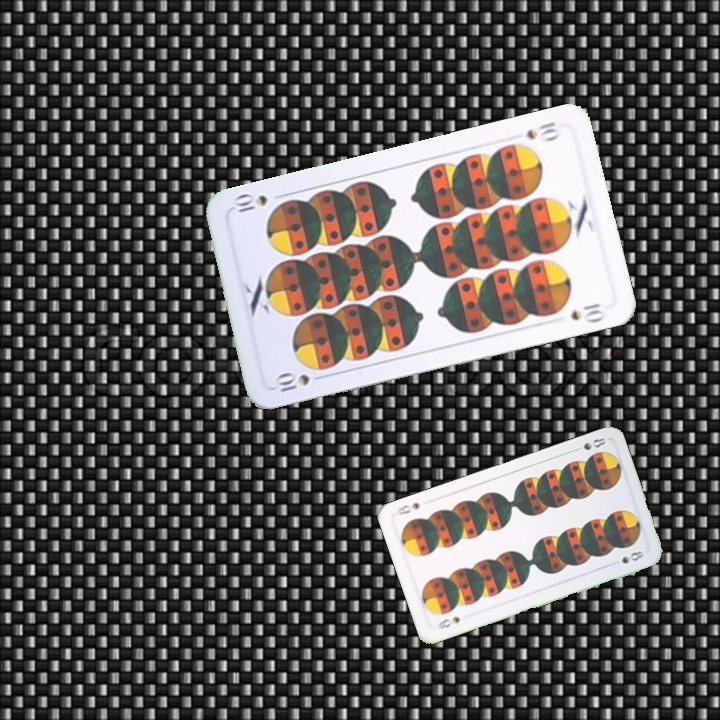S10: (522, 117, 562, 144), (270, 370, 313, 395)
S8: (569, 434, 608, 454), (434, 612, 463, 632)
